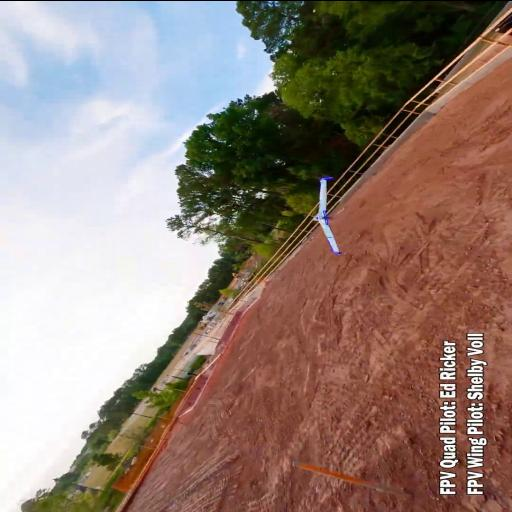uav: (308, 172, 348, 256)
